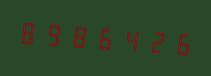eight: (17, 13, 41, 51), (67, 17, 91, 54)
four: (117, 20, 141, 58)
nine: (42, 15, 66, 53)
six: (92, 19, 116, 56), (167, 24, 191, 61)
two: (142, 22, 166, 60)
